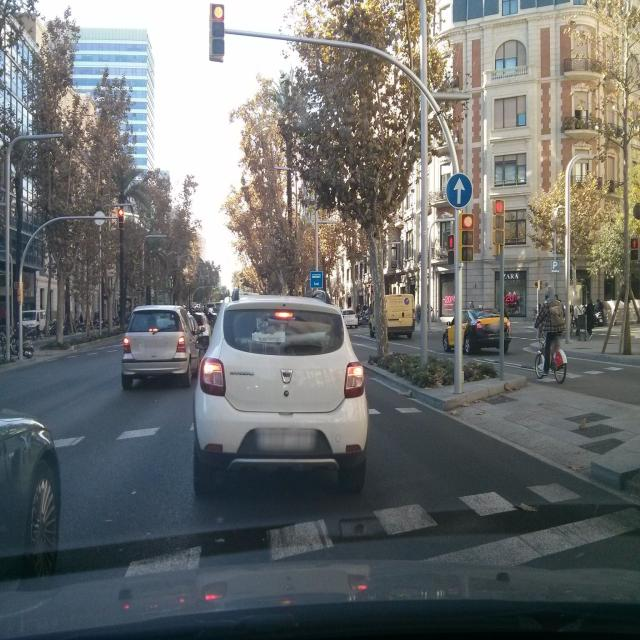bike: (531, 321, 568, 384), (0, 325, 34, 362)
car: (192, 292, 369, 496), (0, 348, 62, 620), (120, 304, 202, 390), (442, 308, 512, 354), (369, 292, 414, 341), (189, 308, 211, 348), (340, 309, 358, 329), (357, 306, 372, 326)
